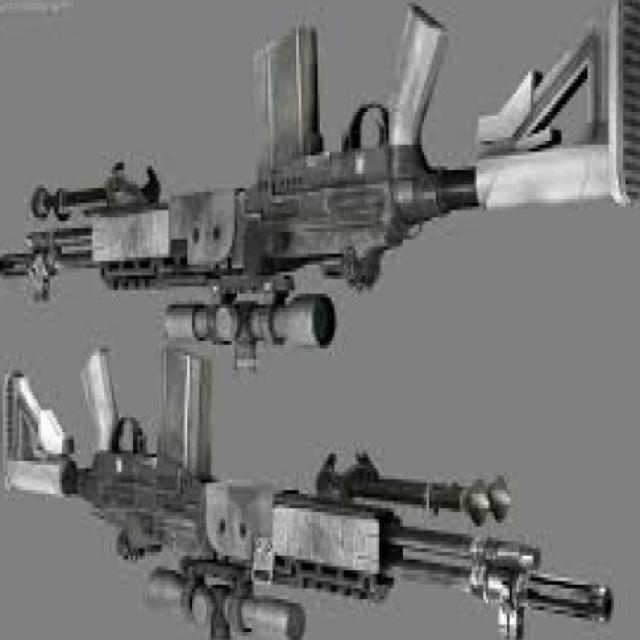Gun: (1, 11, 638, 370), (0, 349, 640, 640)
